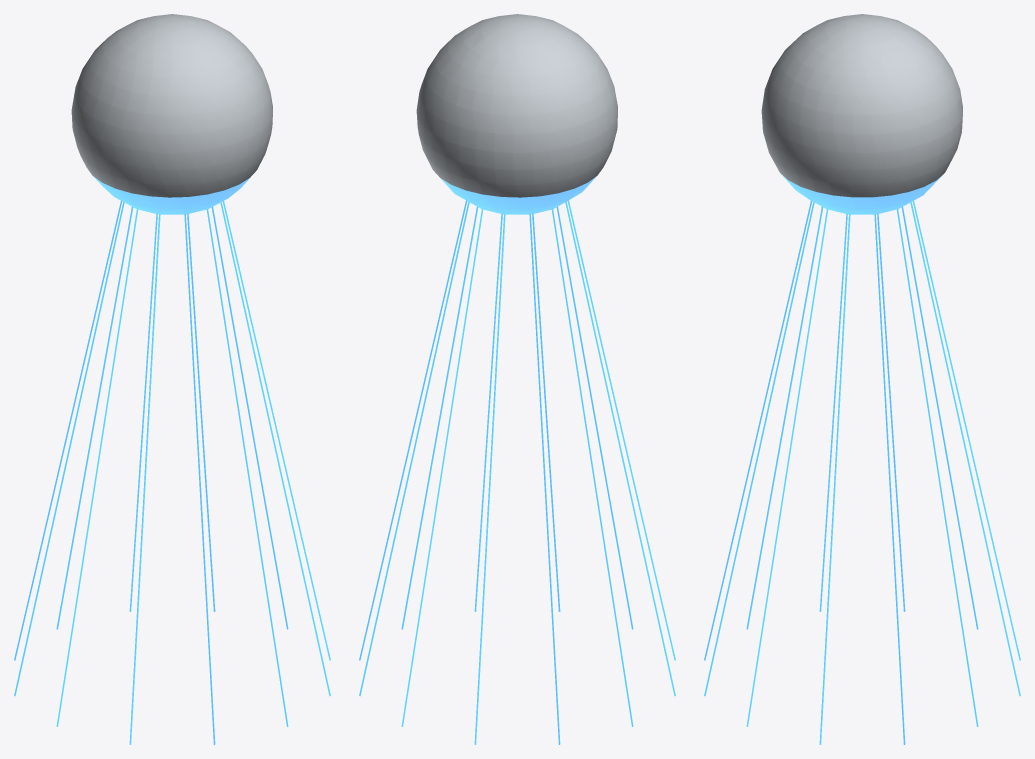
File: light-gizmo-8efad9.glb
3 renders of one model, left to right at view 1: azimuth 30°, elevation 25°; view 2: azimuth 150°, elevation 25°; view 3: azimuth 270°, elevation 25°, orthographic.
Parts seen in each view (by area): view 1: shell, rays, lens; view 2: shell, rays, lens; view 3: shell, rays, lens.
Part boxes in pixels (bbox=[...]): shell: bbox=[71, 14, 272, 197]; rays: bbox=[14, 201, 330, 744]; lens: bbox=[93, 171, 255, 214]; shell: bbox=[416, 14, 617, 197]; rays: bbox=[359, 200, 675, 744]; lens: bbox=[440, 176, 596, 214]; shell: bbox=[761, 14, 962, 197]; rays: bbox=[704, 201, 1020, 744]; lens: bbox=[781, 174, 942, 214].
Size of the model in its own units: 0.4079 by 0.93 by 0.4079.
